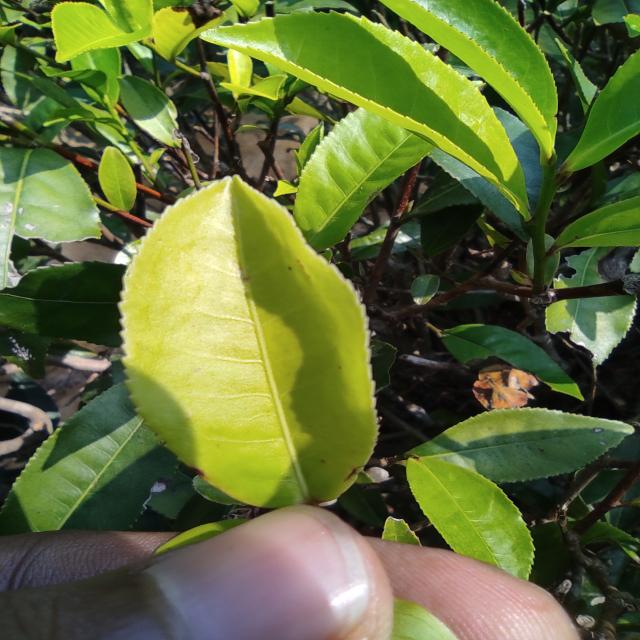Category C(4-7 days): (99, 157, 411, 528)
